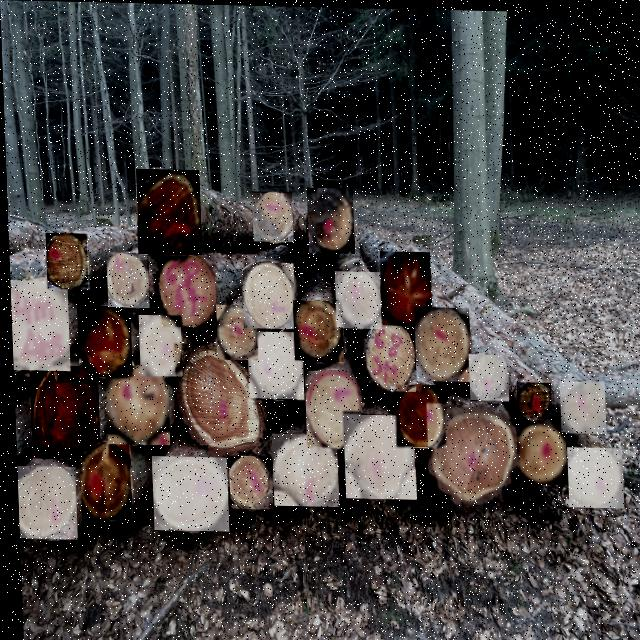wood-log: (174, 344, 265, 457), (426, 403, 513, 503), (28, 366, 96, 459), (342, 413, 410, 498), (149, 457, 224, 530), (136, 169, 199, 253), (9, 280, 67, 370), (104, 365, 165, 444), (269, 433, 335, 505), (14, 467, 73, 538), (303, 370, 358, 445), (158, 255, 214, 326), (414, 306, 468, 379), (379, 250, 430, 324), (78, 442, 126, 520), (76, 306, 129, 376), (361, 318, 412, 390), (246, 331, 300, 397), (241, 261, 292, 328), (564, 445, 619, 505), (515, 418, 563, 481), (306, 187, 352, 251), (394, 384, 443, 444), (291, 300, 340, 359), (333, 271, 379, 326), (138, 315, 179, 376), (214, 304, 255, 359), (45, 233, 85, 289), (105, 252, 145, 307), (559, 380, 603, 430), (226, 456, 267, 506), (251, 192, 291, 241), (467, 353, 506, 397), (515, 380, 548, 417)
